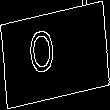O_S: (40, 26, 70, 84)
